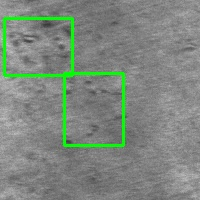rolled-in_scale: (64, 73, 123, 145), (4, 19, 72, 75)
